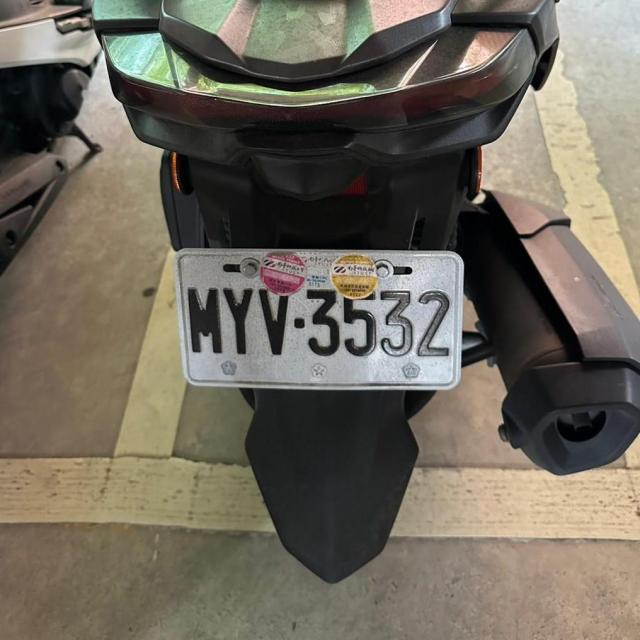W: (164, 241, 470, 397)
